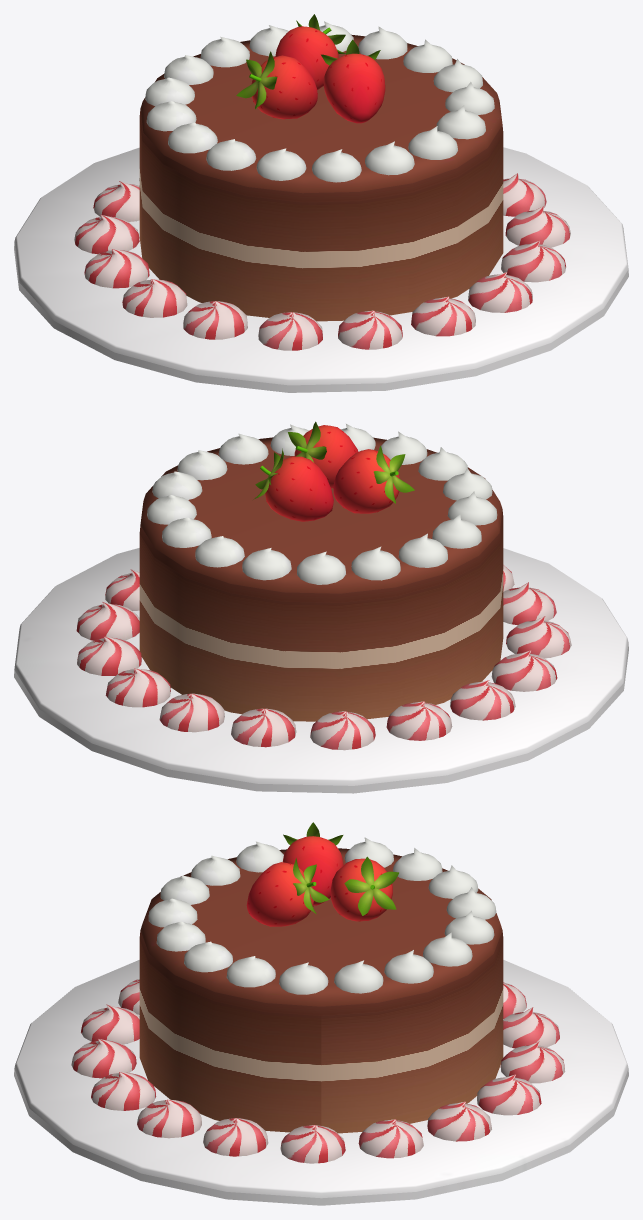
File: Birthday Cake.fbx
The picture shows the model from 3 angles, top to bottom: view 1: azimuth 30°, elevation 25°; view 2: azimuth 150°, elevation 25°; view 3: azimuth 270°, elevation 25°; orthographic projection.
Visible parts, largest first — view 1: Cake, Sphere005, Sphere032, Sphere010, Sphere028, Sphere029, Sphere027, Sphere026, Sphere025, Sphere024, Sphere023, Sphere030 (+20 smaller); view 2: Cake, Sphere010, Sphere032, Sphere023, Sphere022, Sphere021, Sphere024, Sphere019, Sphere020, Sphere018, Sphere017, Sphere025 (+21 smaller); view 3: Cake, Sphere005, Sphere032, Sphere018, Sphere017, Sphere015, Sphere016, Sphere031, Sphere030, Sphere010, Sphere029, Sphere019 (+21 smaller).
Part boxes in pixels (x1,y1,x2,y2): Cake: [14, 34, 628, 392]; Sphere005: [323, 53, 385, 123]; Sphere032: [249, 55, 317, 119]; Sphere010: [275, 26, 338, 89]; Sphere028: [411, 296, 475, 336]; Sphere029: [468, 272, 532, 312]; Sphere027: [338, 310, 402, 349]; Sphere026: [258, 312, 322, 350]; Sphere025: [183, 301, 247, 339]; Sphere024: [122, 279, 187, 317]; Sphere023: [84, 249, 149, 288]; Sphere030: [501, 240, 565, 282]; Cake: [14, 437, 628, 793]; Sphere010: [260, 456, 333, 521]; Sphere032: [333, 449, 399, 513]; Sphere023: [450, 680, 515, 720]; Sphere022: [386, 701, 452, 740]; Sphere021: [310, 711, 375, 750]; Sphere024: [491, 650, 557, 691]; Sphere019: [159, 693, 224, 732]; Sphere020: [231, 708, 296, 747]; Sphere018: [105, 668, 170, 707]; Sphere017: [77, 636, 141, 675]; Sphere025: [506, 616, 571, 658]; Cake: [14, 848, 628, 1205]; Sphere005: [246, 862, 316, 926]; Sphere032: [282, 836, 343, 905]; Sphere018: [477, 1074, 541, 1115]; Sphere017: [427, 1101, 491, 1141]; Sphere015: [280, 1125, 345, 1163]; Sphere016: [358, 1119, 423, 1158]; Sphere031: [203, 1118, 268, 1156]; Sphere030: [137, 1099, 201, 1138]; Sphere010: [330, 858, 392, 921]; Sphere029: [91, 1072, 156, 1110]; Sphere019: [500, 1041, 565, 1083].
Size of the model in its own units: 18.7 by 7.62 by 18.7.
5 materials, 5 textured.
